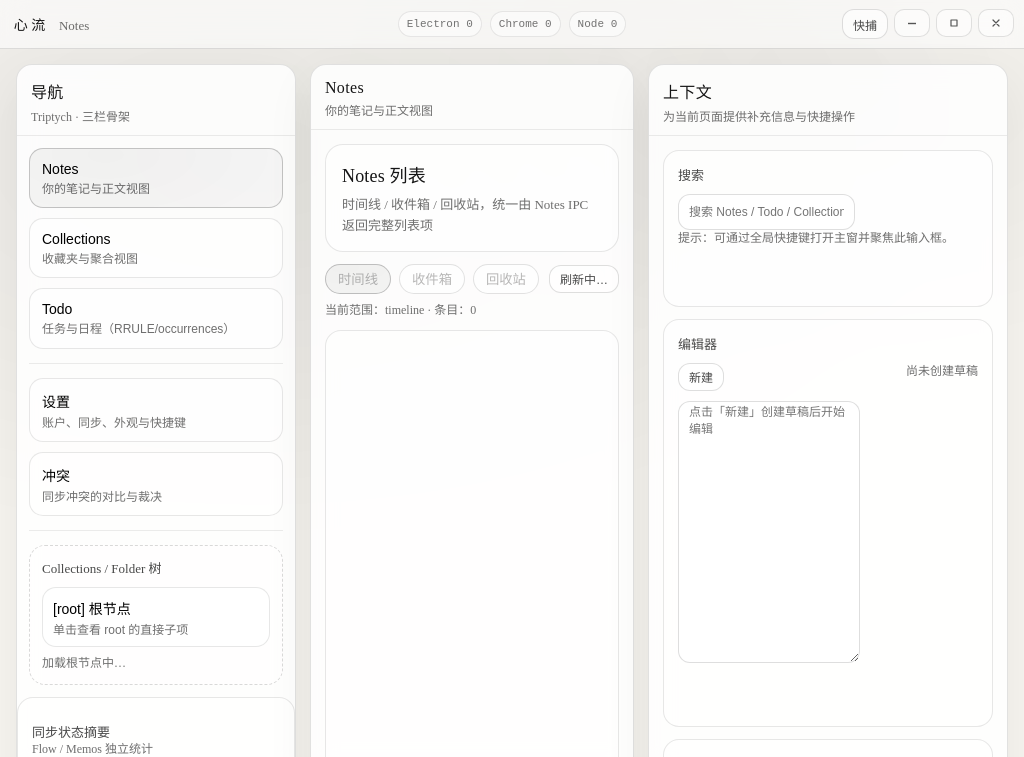
it: <App /> › Notes 编辑器：可以新建草稿并进入可编辑状态
Click the button with test id "notes-new": (701, 377) top-left (678, 363), bottom-right (724, 391)
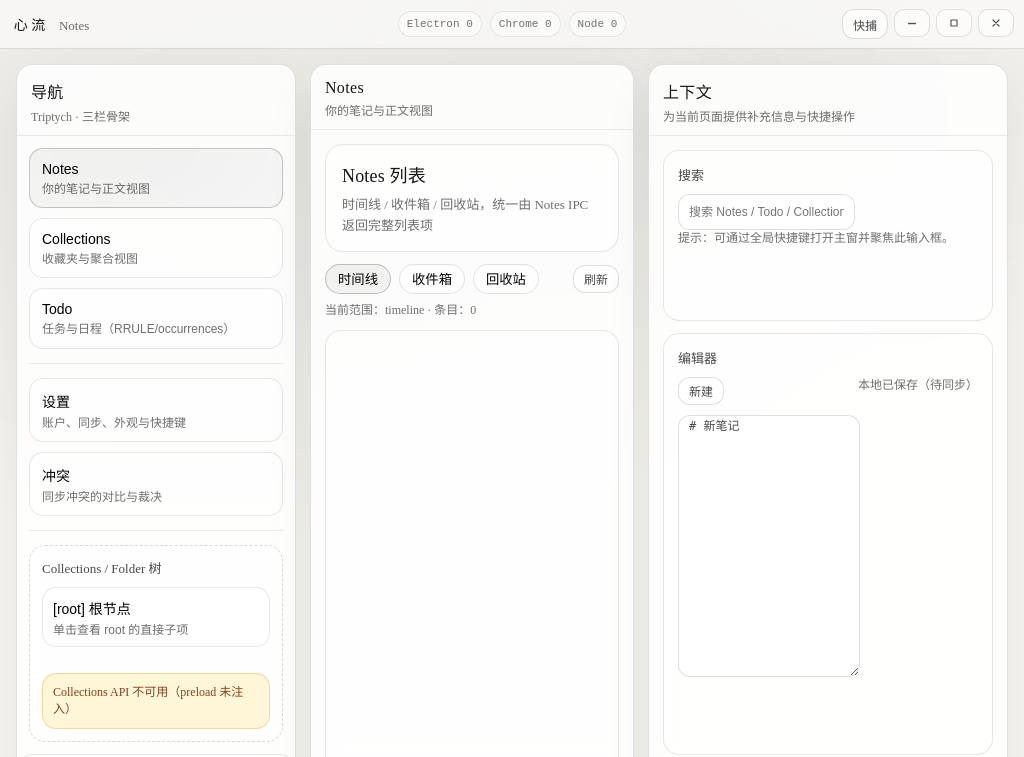
Expected: the text box with test id "notes-editor-input" is enabled, top-left (678, 415), bottom-right (860, 677)
Expected: the text with test id "notes-save-status" shows "本地已保存", top-left (858, 378), bottom-right (978, 392)
